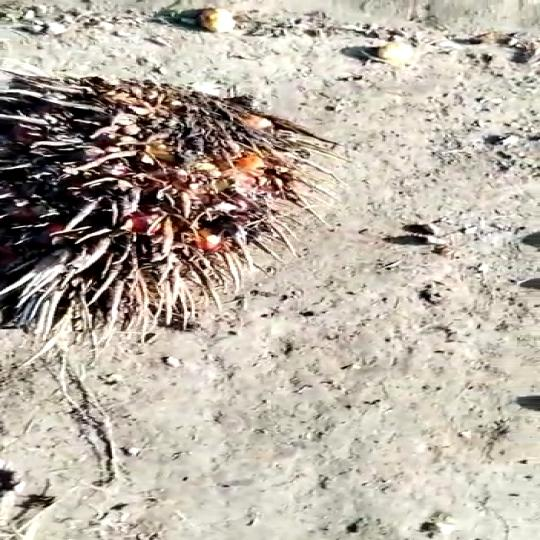terlalu masak: (0, 61, 402, 371)
